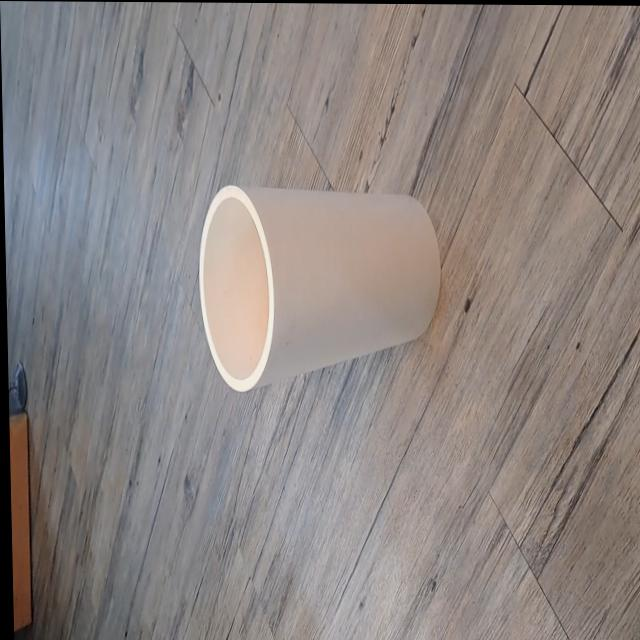CORAL: (194, 140, 463, 406)
